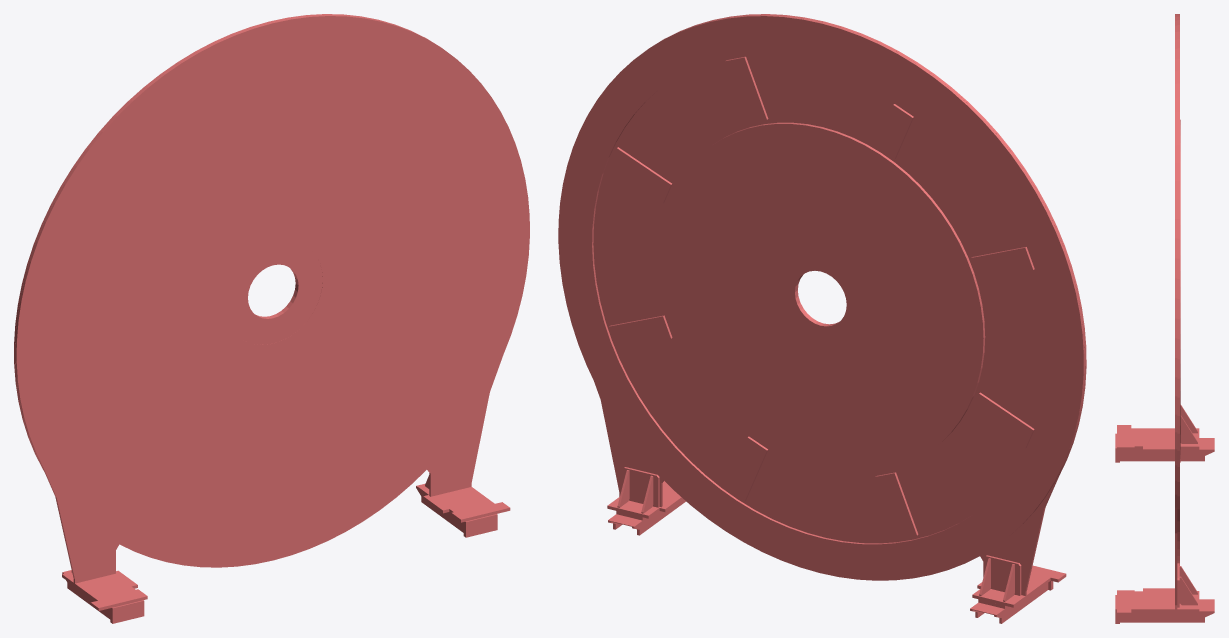
The model's file is Small-Wheel-NJD-SideA.glb.
3 views of the same model, side by side, from view 1: azimuth 30°, elevation 25°; view 2: azimuth 150°, elevation 25°; view 3: azimuth 270°, elevation 25° (orthographic). The views are drawn at different scales.
Visible parts, largest first — view 1: null; view 2: null; view 3: null.
Part boxes in pixels (x1=…): null: x1=14, y1=14, x2=529, y2=623; null: x1=558, y1=14, x2=1086, y2=623; null: x1=1115, y1=14, x2=1214, y2=623.
Size of the model in its own units: 8.72 by 8.72 by 1.56.
